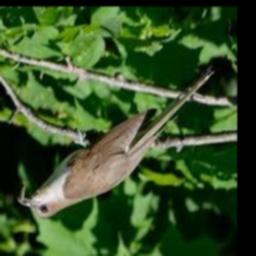Cuckoo: (19, 65, 215, 219)
